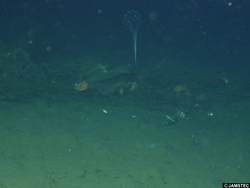fishing net: (1, 46, 221, 117)
